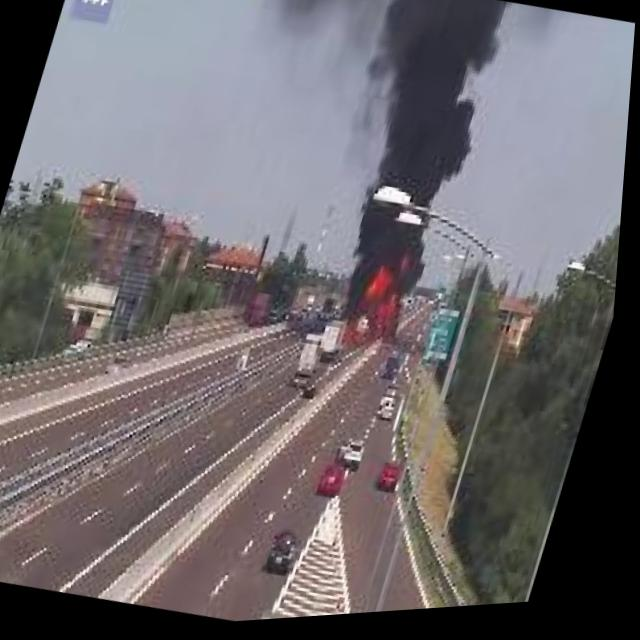fire: (340, 241, 432, 361)
